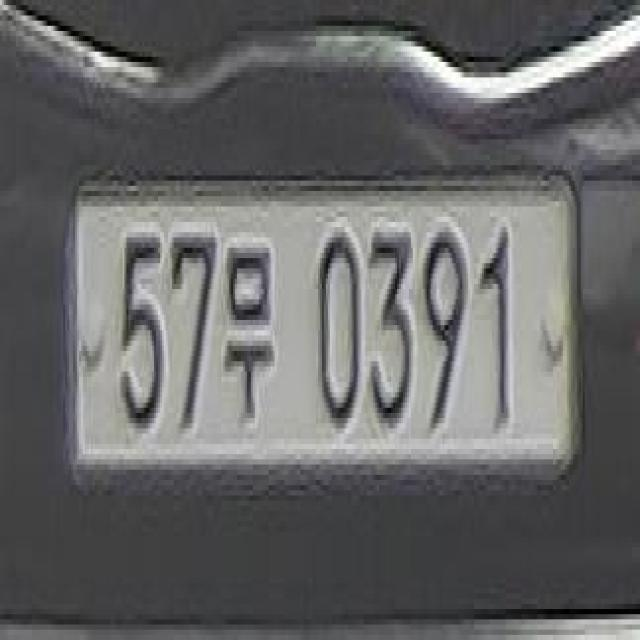0: (314, 208, 362, 435)
1: (475, 215, 519, 438)
3: (368, 207, 416, 432)
5: (116, 211, 168, 435)
7: (172, 209, 220, 433)
9: (420, 204, 472, 438)
license_plate: (62, 156, 586, 484)
mu: (224, 217, 276, 437)
